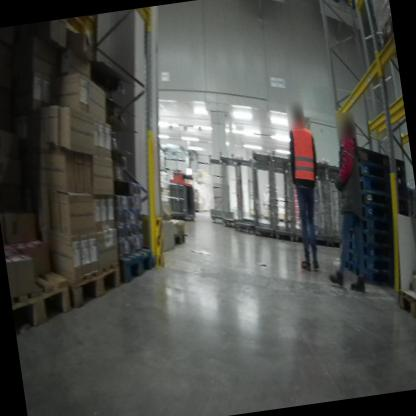pallet: (8, 261, 76, 341), (49, 246, 129, 312), (24, 16, 101, 77), (333, 135, 405, 183), (339, 238, 400, 280), (338, 252, 393, 291), (110, 243, 156, 285), (352, 158, 405, 193), (340, 218, 394, 252), (355, 170, 405, 206), (356, 185, 403, 218), (345, 232, 394, 263), (352, 197, 396, 230), (390, 284, 416, 338), (376, 8, 395, 62), (361, 213, 397, 237), (170, 229, 189, 250)
